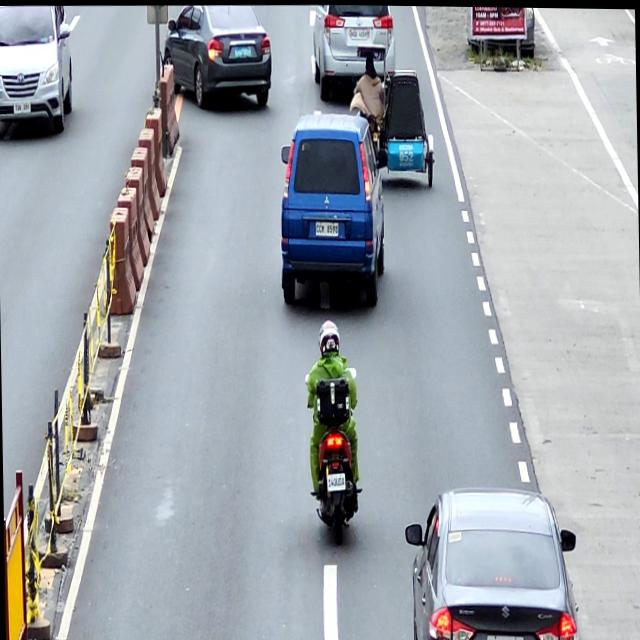Car: (404, 483, 580, 640), (278, 111, 386, 307), (160, 3, 272, 107), (0, 4, 74, 138), (312, 4, 396, 103)
License-Plate: (314, 220, 338, 237), (326, 472, 344, 490), (486, 632, 524, 640), (13, 100, 30, 114), (234, 46, 252, 58), (350, 28, 368, 39)
Motorcycle: (304, 365, 362, 546)
Tricycle: (354, 40, 438, 189)
